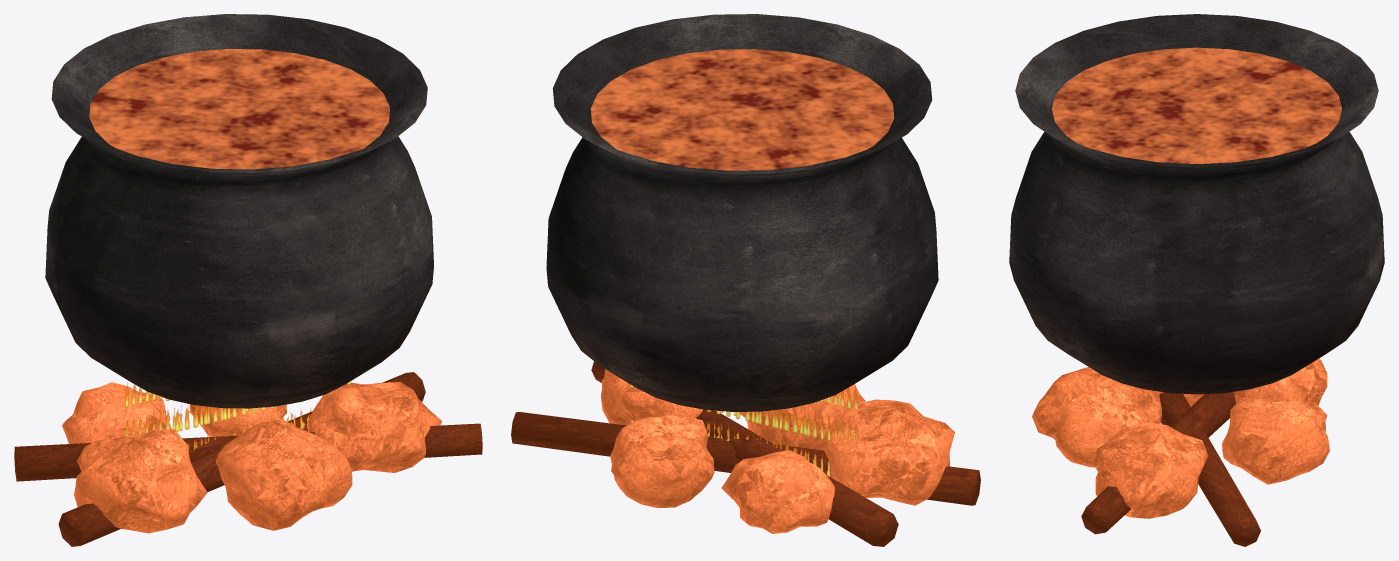
Rendered from mm7_deco_cauldron.glb.
The picture shows the model from 3 angles, left to right: view 1: azimuth 30°, elevation 25°; view 2: azimuth 150°, elevation 25°; view 3: azimuth 270°, elevation 25°; orthographic projection. The views are drawn at different scales.
Parts seen in each view (by area): view 1: Cauldron; view 2: Cauldron; view 3: Cauldron.
Part boxes in pixels (<box>): Cauldron: <box>14,14,482,546</box>; Cauldron: <box>511,14,980,546</box>; Cauldron: <box>1009,14,1384,546</box>.
Size of the model in its own units: 1.12 by 1 by 0.93.
Materials: 5 (5 with a texture image).
